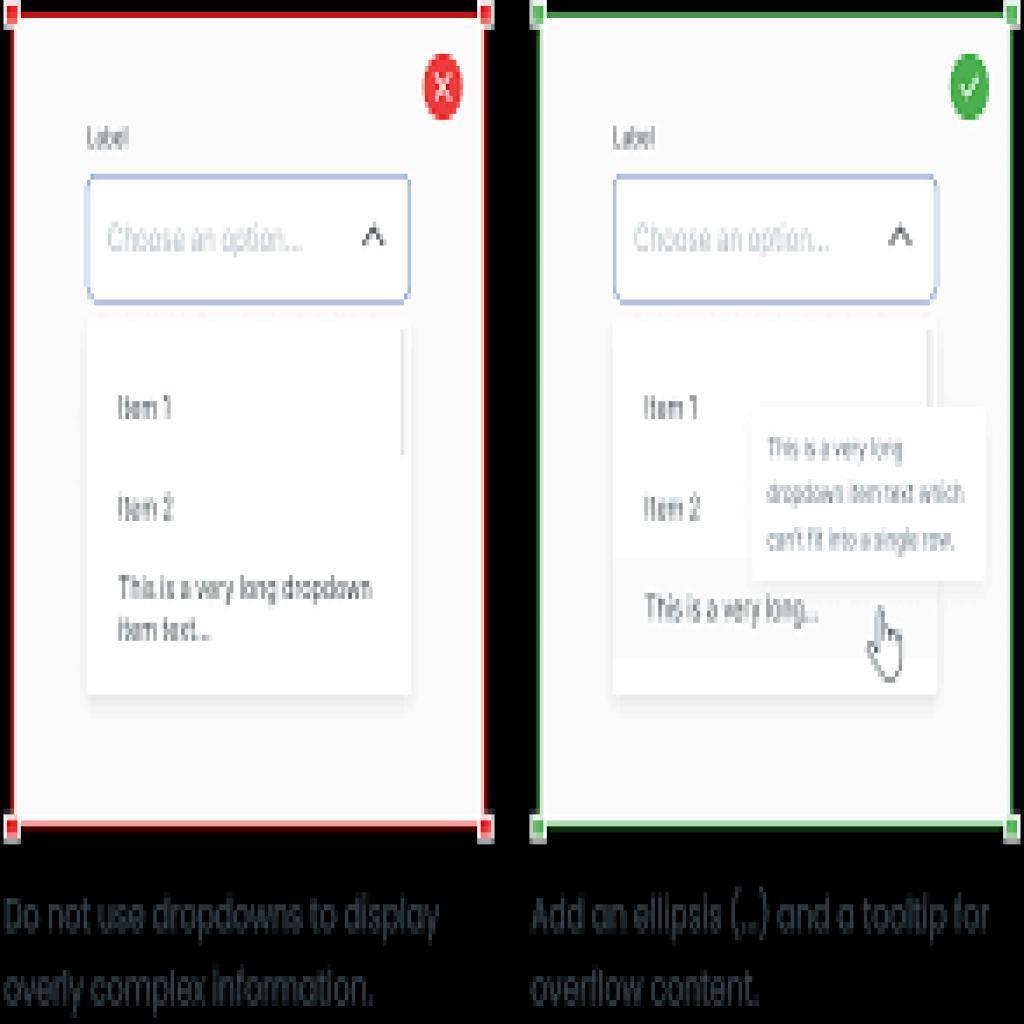dropdown: (87, 173, 412, 307), (615, 174, 938, 306)
